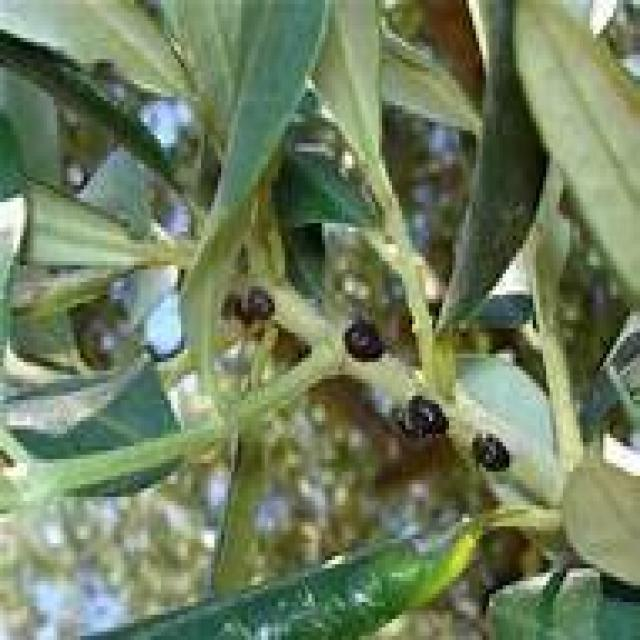Black Scale: (395, 392, 446, 438), (469, 429, 509, 480), (345, 316, 382, 358)
